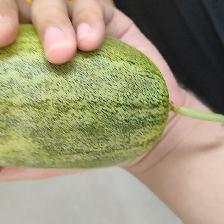gua: (1, 24, 174, 168)
